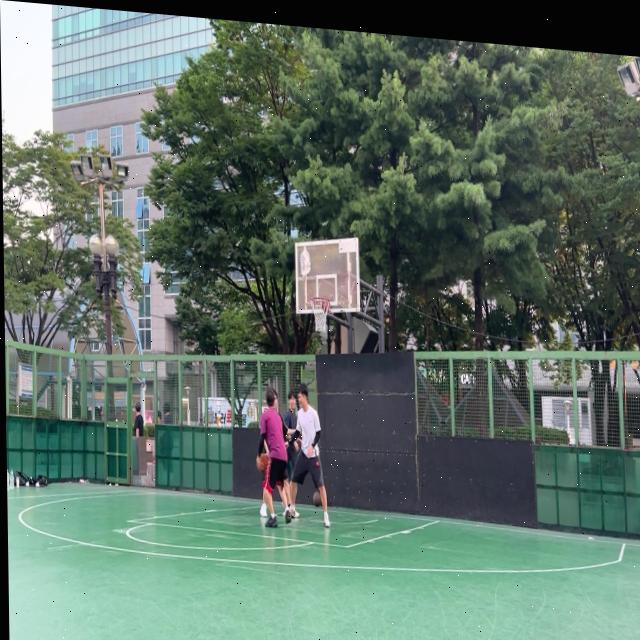basketball: (256, 451, 268, 473)
hoop: (310, 296, 331, 335)
